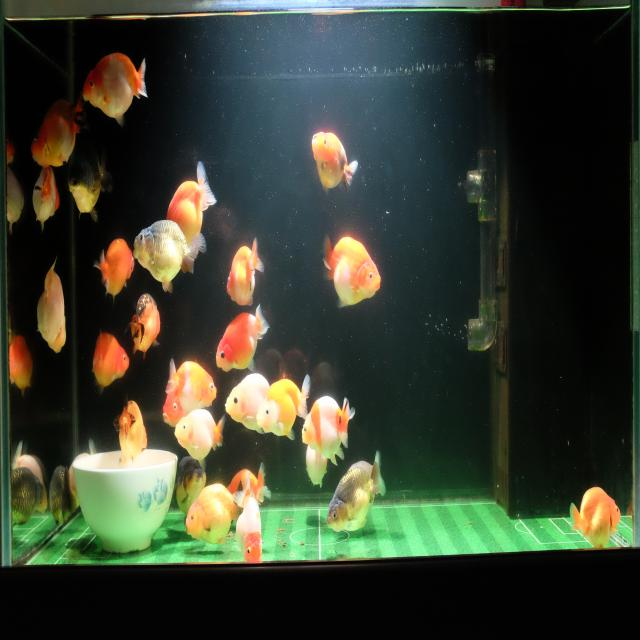Goldfish: (131, 216, 200, 296), (164, 158, 219, 255), (325, 449, 387, 534), (81, 50, 148, 128), (319, 232, 382, 314), (29, 90, 83, 171), (181, 480, 245, 548), (255, 370, 313, 444), (300, 395, 356, 470), (211, 304, 269, 376), (567, 483, 622, 549), (310, 128, 358, 200), (67, 148, 112, 224), (35, 255, 68, 355), (165, 353, 218, 414), (225, 232, 266, 309), (92, 235, 135, 307), (230, 475, 265, 562), (226, 370, 270, 438), (112, 393, 149, 471), (174, 406, 226, 461), (10, 438, 48, 513), (90, 328, 130, 394), (224, 462, 272, 516), (172, 452, 208, 522), (129, 292, 162, 362), (9, 470, 43, 532), (30, 163, 60, 230), (50, 464, 78, 534), (8, 335, 34, 393), (160, 385, 186, 430)
